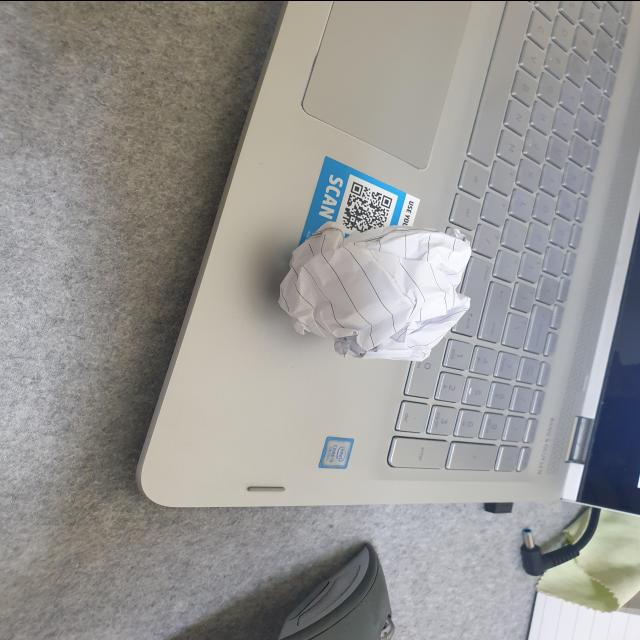kertas: (267, 202, 491, 370)
